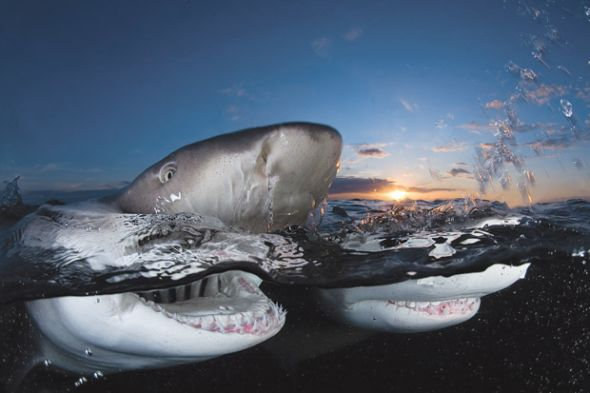shark: (1, 119, 353, 385)
